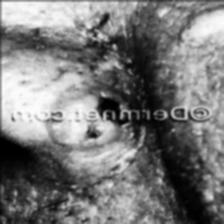Potentially Malignant Skin Tumors: (92, 96, 114, 104), (84, 126, 98, 134)
